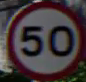Speed limit: (3, 4, 82, 76)
